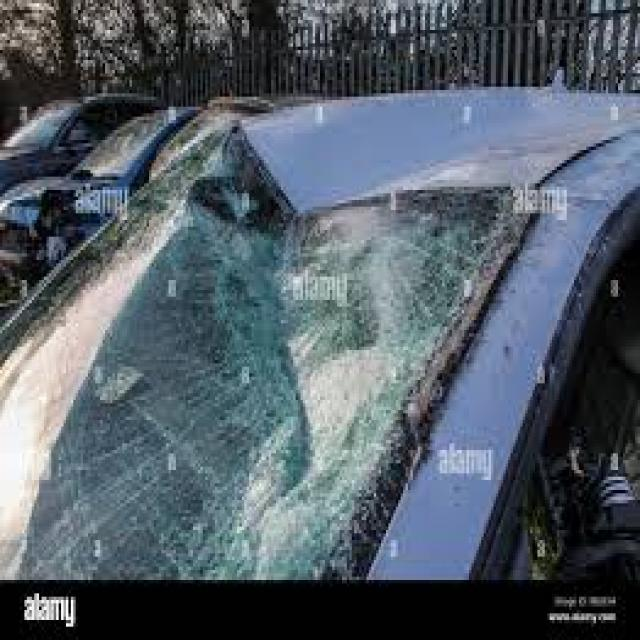damaged-windscreen: (4, 122, 531, 577)
